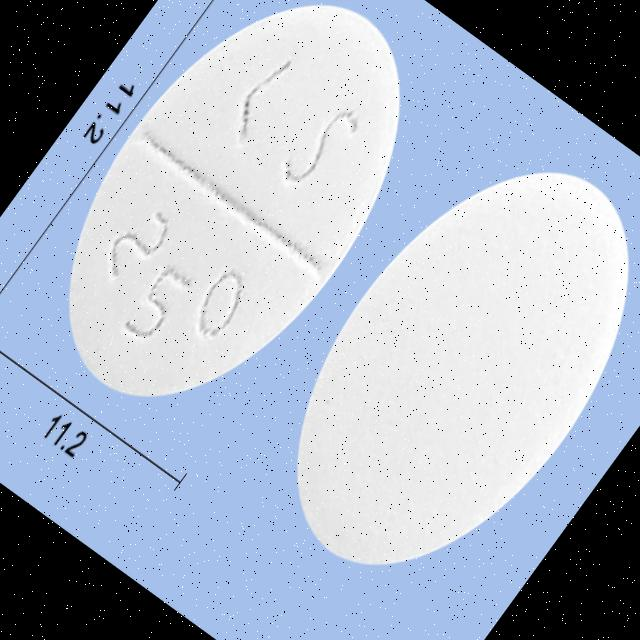Auscle: (0, 0, 467, 457), (229, 111, 640, 624)
